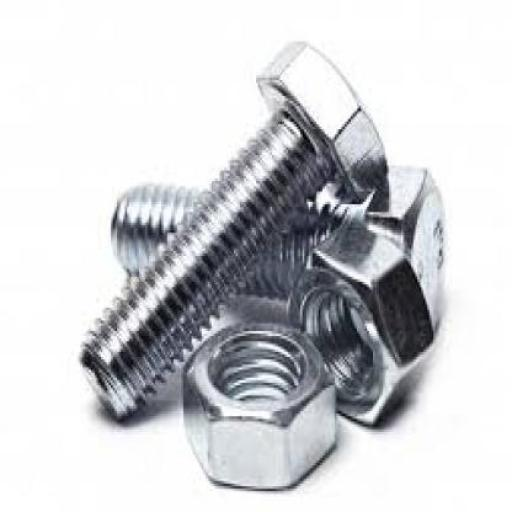metal: (77, 36, 387, 419), (109, 163, 444, 331), (282, 222, 432, 427), (182, 315, 336, 486)
